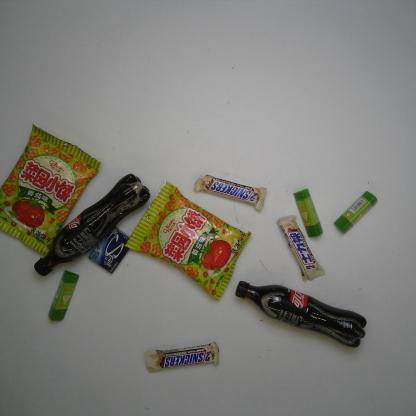Chocolate: (276, 214, 328, 284), (192, 174, 269, 213), (143, 340, 221, 376)
Drink: (32, 173, 151, 277), (234, 279, 369, 348)
Gum: (86, 222, 137, 276)
Puffed Food: (124, 181, 253, 302), (0, 124, 100, 262)
Stationery: (331, 189, 379, 236), (46, 268, 80, 324), (292, 187, 324, 238)
